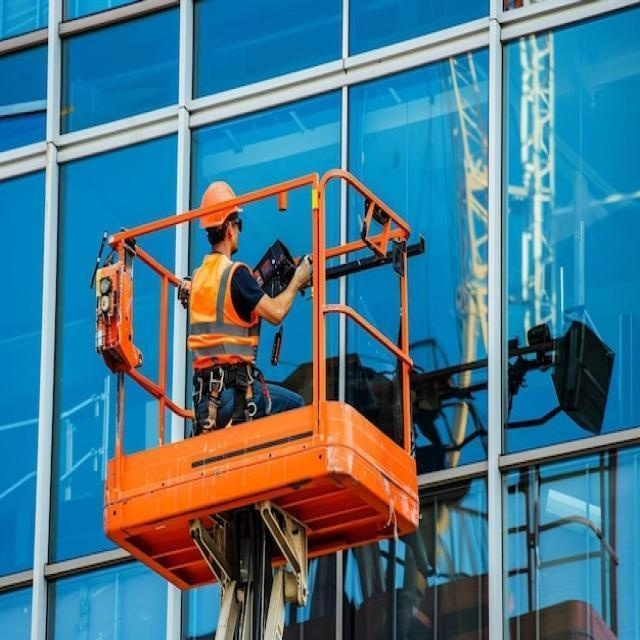Arnes_seguridad: (191, 362, 259, 430)
